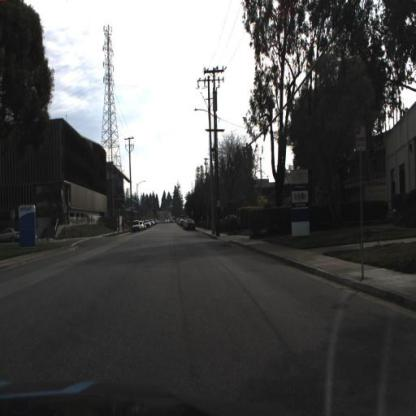car: (184, 218, 196, 234), (131, 219, 142, 233)
